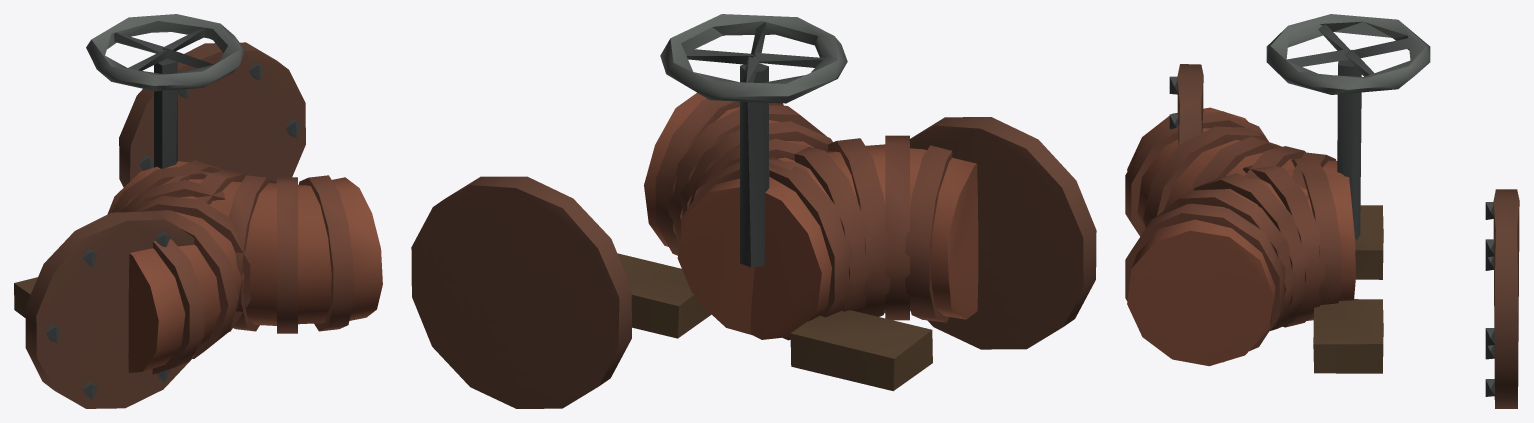
Rendered from pump_elbow_b_lod1.glb.
3 views of the same model, side by side, from view 1: azimuth 30°, elevation 25°; view 2: azimuth 150°, elevation 25°; view 3: azimuth 270°, elevation 25° (orthographic). The views are drawn at different scales.
Visible parts, largest first — view 1: Surface.001; view 2: Surface.001; view 3: Surface.001.
Boxes of the visible parts, x1,y1,x2,y2 form: Surface.001: [14, 14, 382, 408]; Surface.001: [411, 14, 1096, 408]; Surface.001: [1125, 14, 1519, 408].
Bounding box in the file's own units: 4.14 × 2.6 × 3.19.
